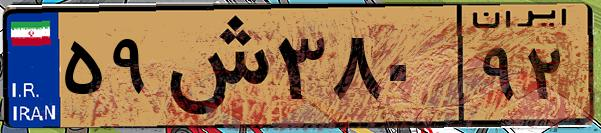0: (385, 28, 445, 110)
2: (525, 38, 570, 115)
3: (270, 28, 330, 110)
5: (57, 26, 110, 100)
8: (330, 28, 385, 110)
9: (475, 38, 525, 113), (110, 28, 158, 98)
ش: (158, 12, 270, 120)
